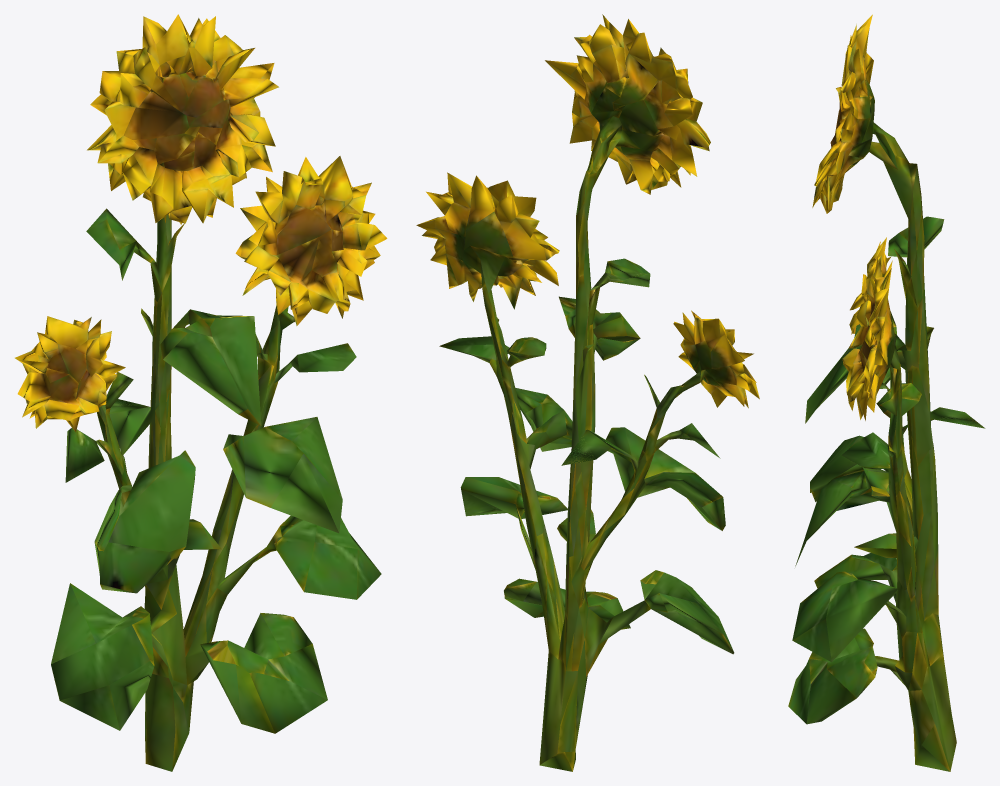
Rendered from getkong-blume2.glb.
3 renders of one model, left to right at view 1: azimuth 30°, elevation 25°; view 2: azimuth 150°, elevation 25°; view 3: azimuth 270°, elevation 25°, orthographic. The views are drawn at different scales.
Visible parts, largest first — view 1: output_unwrapped; view 2: output_unwrapped; view 3: output_unwrapped.
Boxes of the visible parts, x1,y1,x2,y2 form: output_unwrapped: (15, 14, 387, 771); output_unwrapped: (416, 14, 759, 771); output_unwrapped: (788, 14, 985, 771).
Bounding box in the file's own units: 0.9262 × 1.9 × 0.4658.
1 material, 1 textured.
